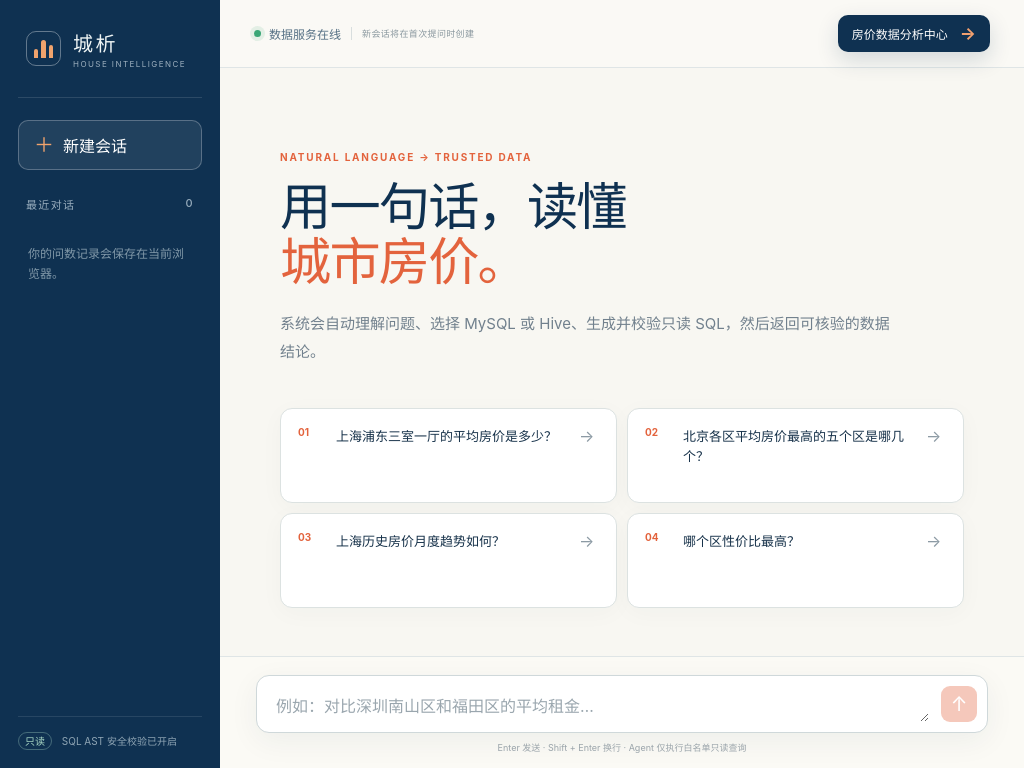
it: App conversations › keeps two turns in one sidebar conversation and renders both
The image size is (1024, 768).
Type "第一问" into the text box with placeholder "例如：对比深圳南山区和福田区的平均租金…" at [602, 707], box 274,692 -> 929,722
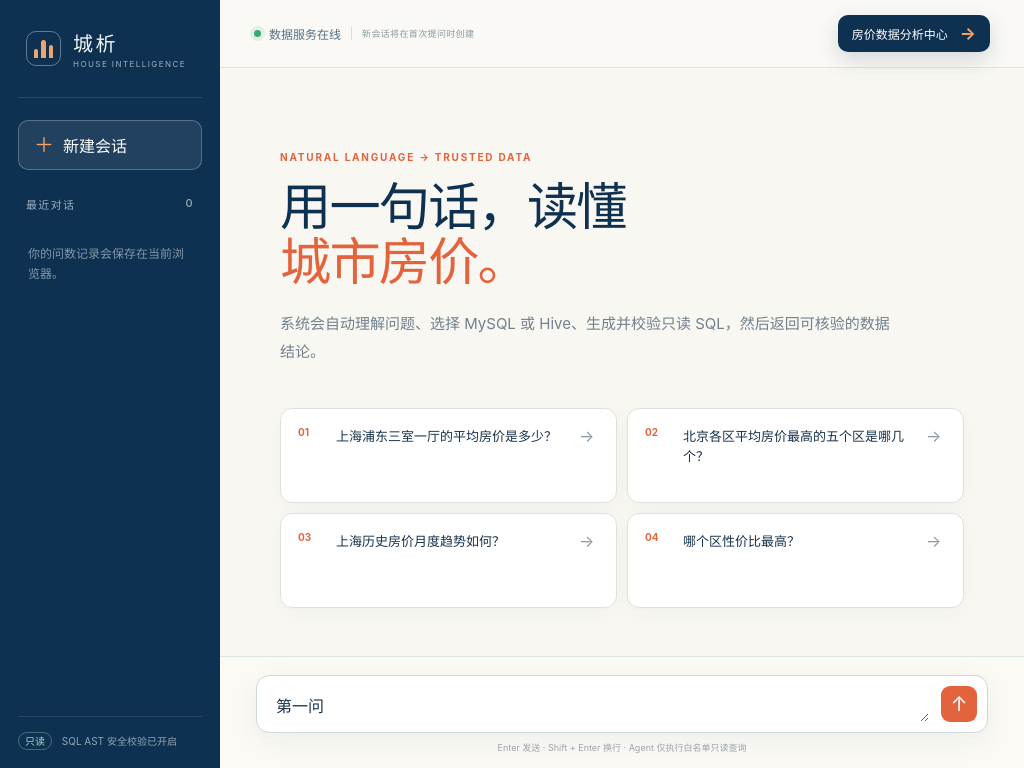
Click the button named "发送问题" at [959, 704], box 941,686 -> 977,722
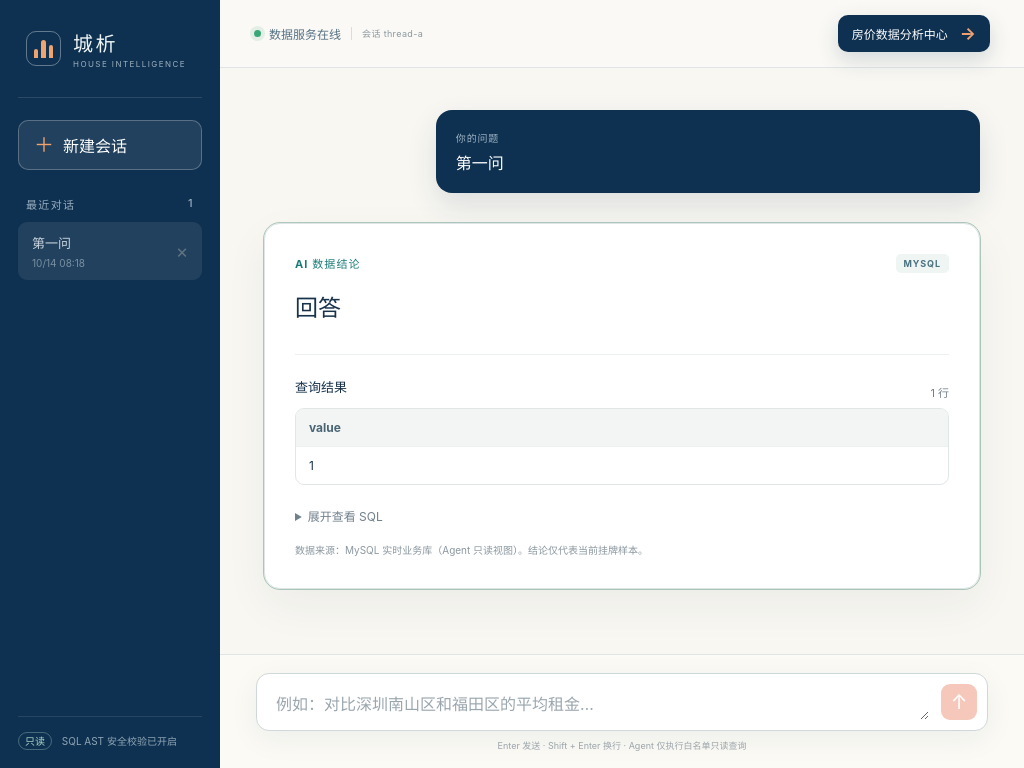
Expected: the heading "回答" is shown, 295,296 -> 341,321
Type "第二问" into the text box with placeholder "例如：对比深圳南山区和福田区的平均租金…" at [602, 705], box 274,690 -> 929,720
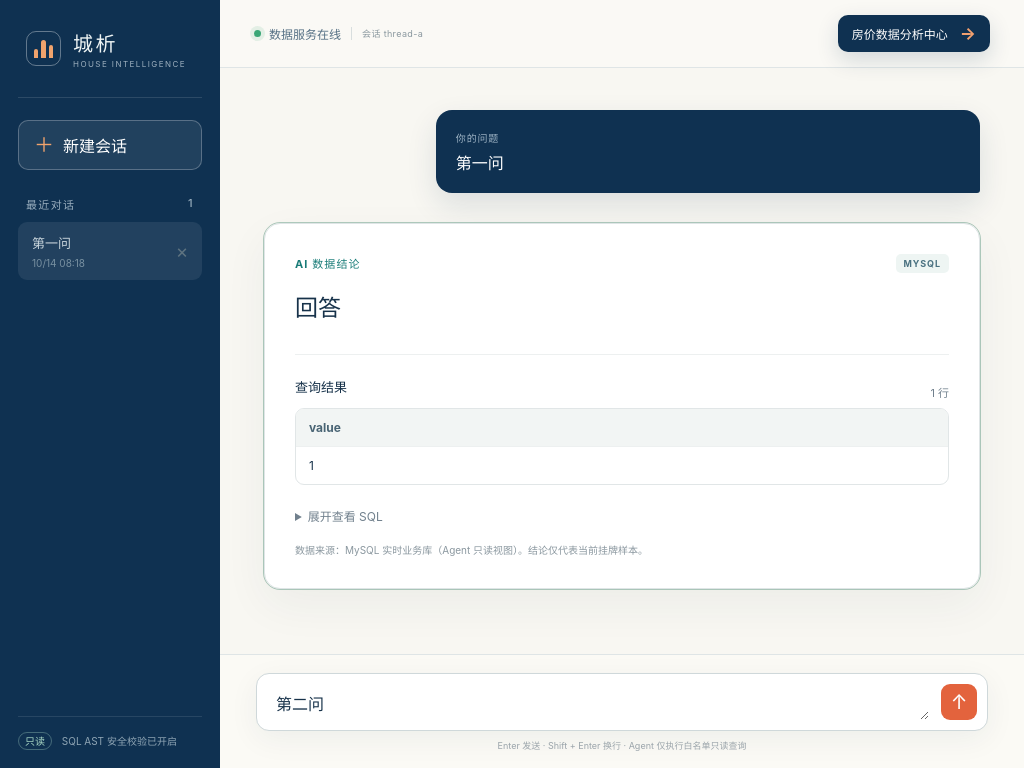
Click the button named "发送问题" at [959, 702], box 941,684 -> 977,720
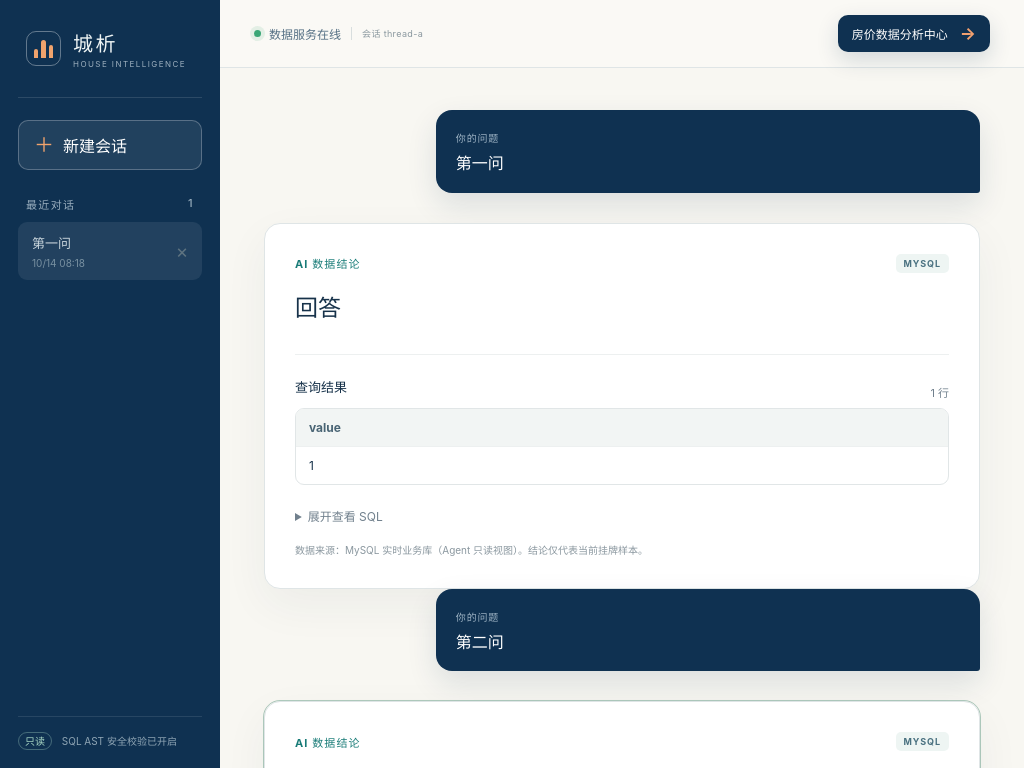
Expected: the text "第一问" is shown 2 times, 32,235 -> 71,251; 456,153 -> 504,173
Expected: the text "第二问" is shown, 456,632 -> 504,652
